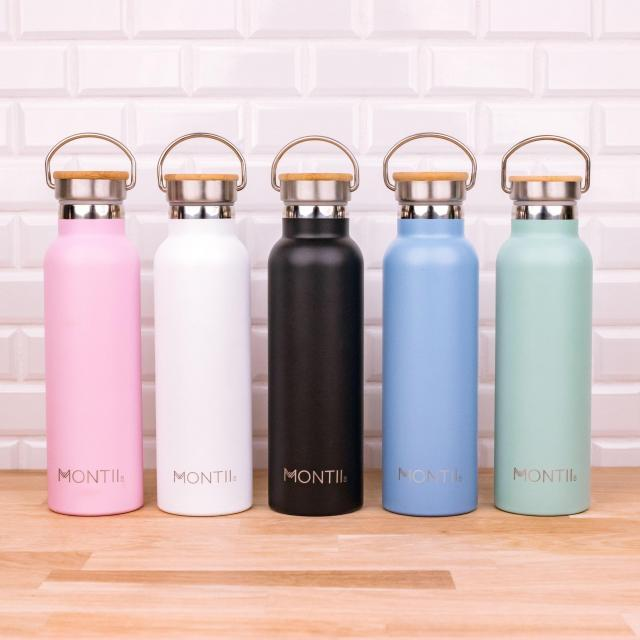gym bottle: (150, 132, 256, 519), (40, 132, 146, 518), (378, 132, 482, 520), (264, 134, 368, 520), (491, 134, 596, 516)
